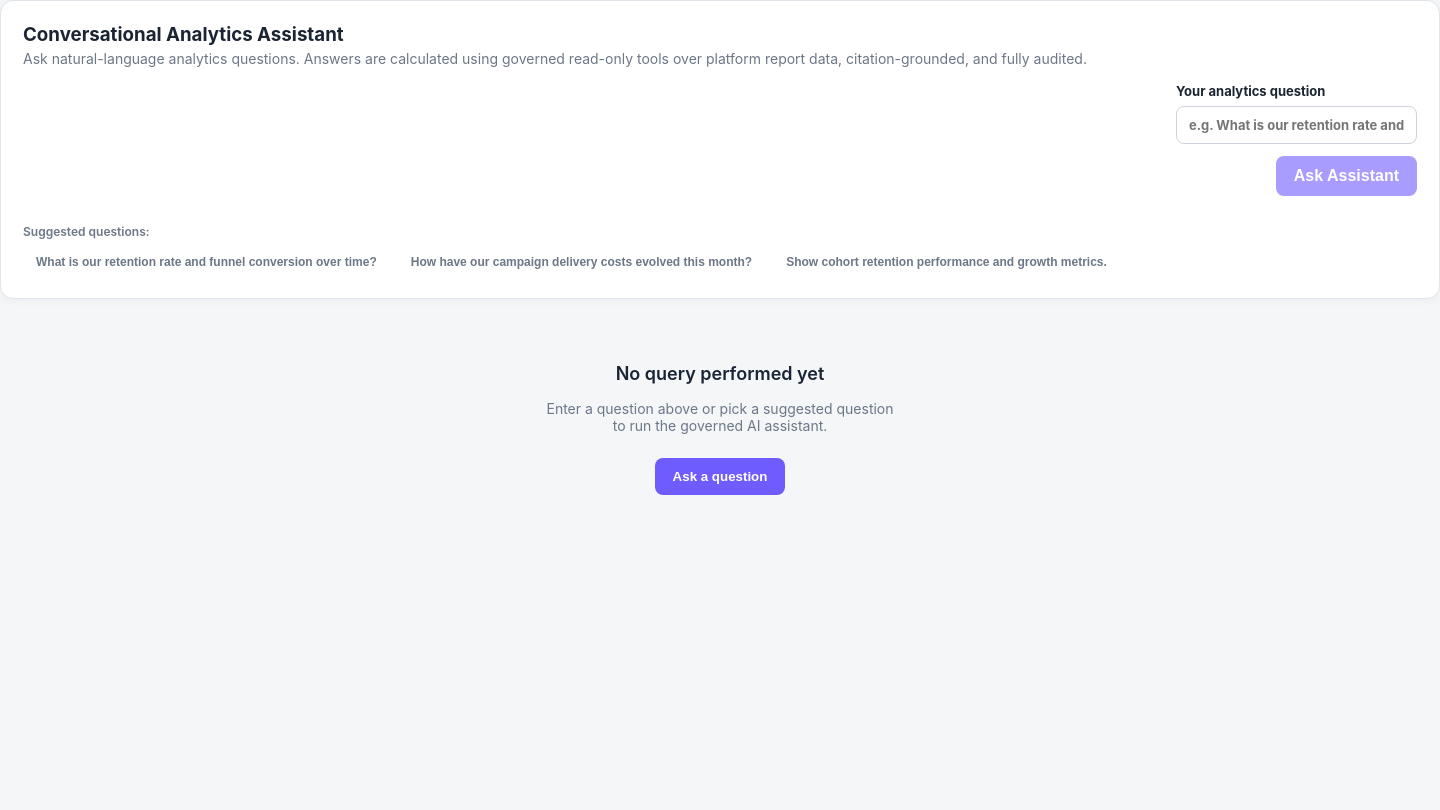
Scenario: Assistant section › renders assistant view, allows asking question, and displays grounded answer with tool trace
Expected: the heading "Conversational Analytics Assistant" is shown, 23,23 -> 344,46
Expected: the heading "No query performed yet" is shown, 616,363 -> 824,384
Type "What is our retention rate?" into the field with placeholder "e.g. What is our retention rate and conversion over time?" at (1296, 125), box 1176,106 -> 1417,144
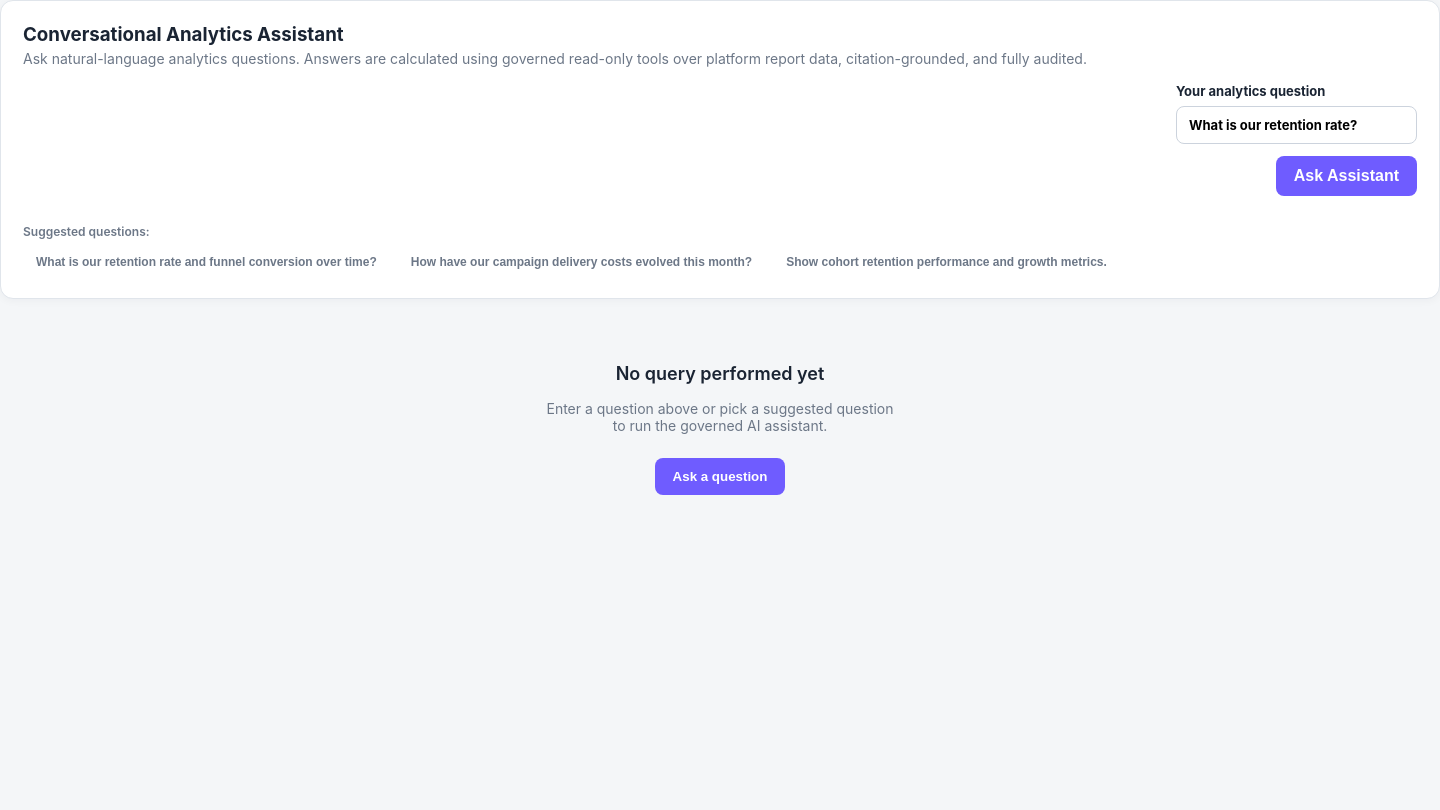
Click the button "Ask Assistant" at (1346, 176), box 1276,156 -> 1417,196
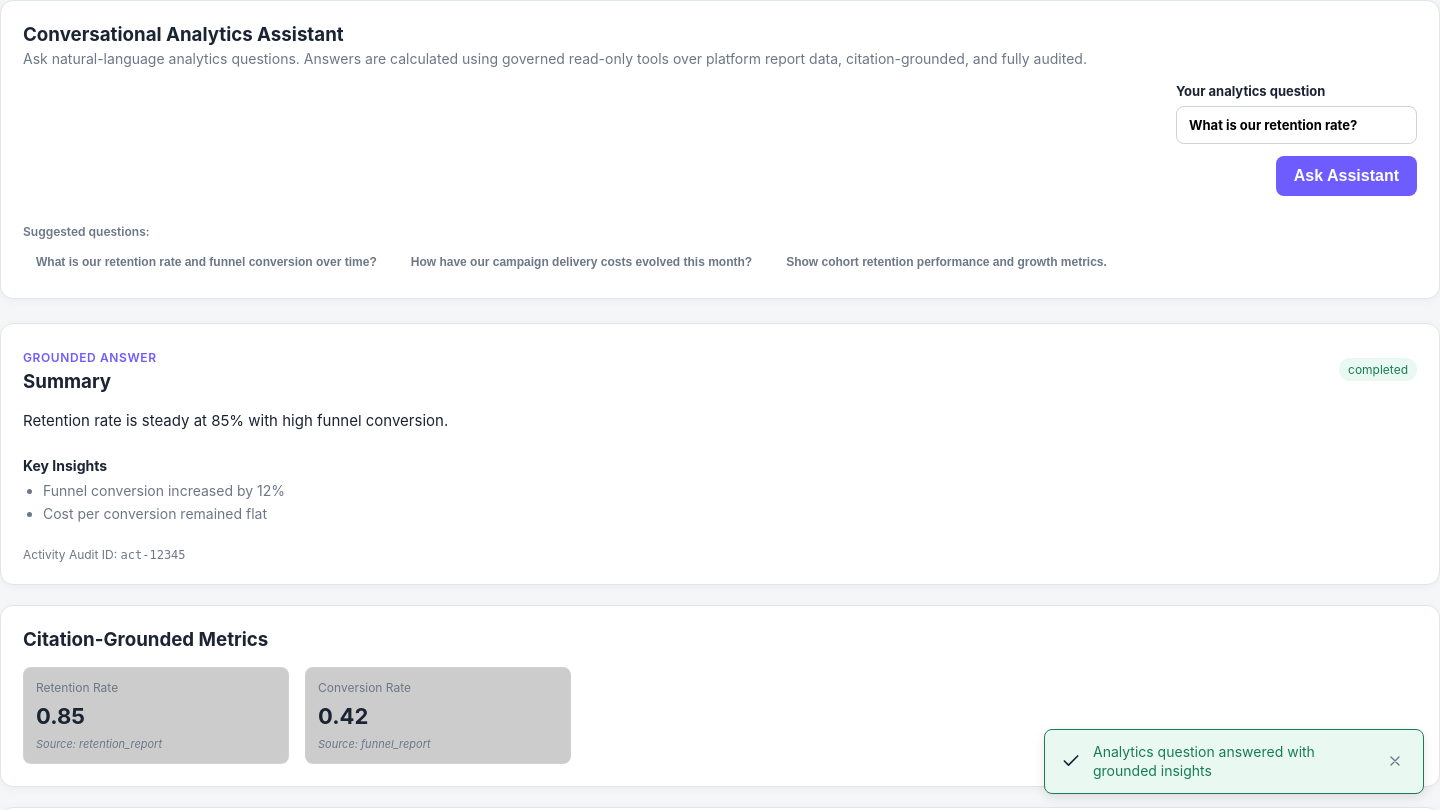
Now the text "Retention rate is steady at 85% with high funnel conversion." is shown, box 23,411 -> 448,430
Now the list item "Funnel conversion increased by 12%" is shown, box 43,482 -> 285,499
Now the text "Retention Rate" is shown, box 36,680 -> 118,695
